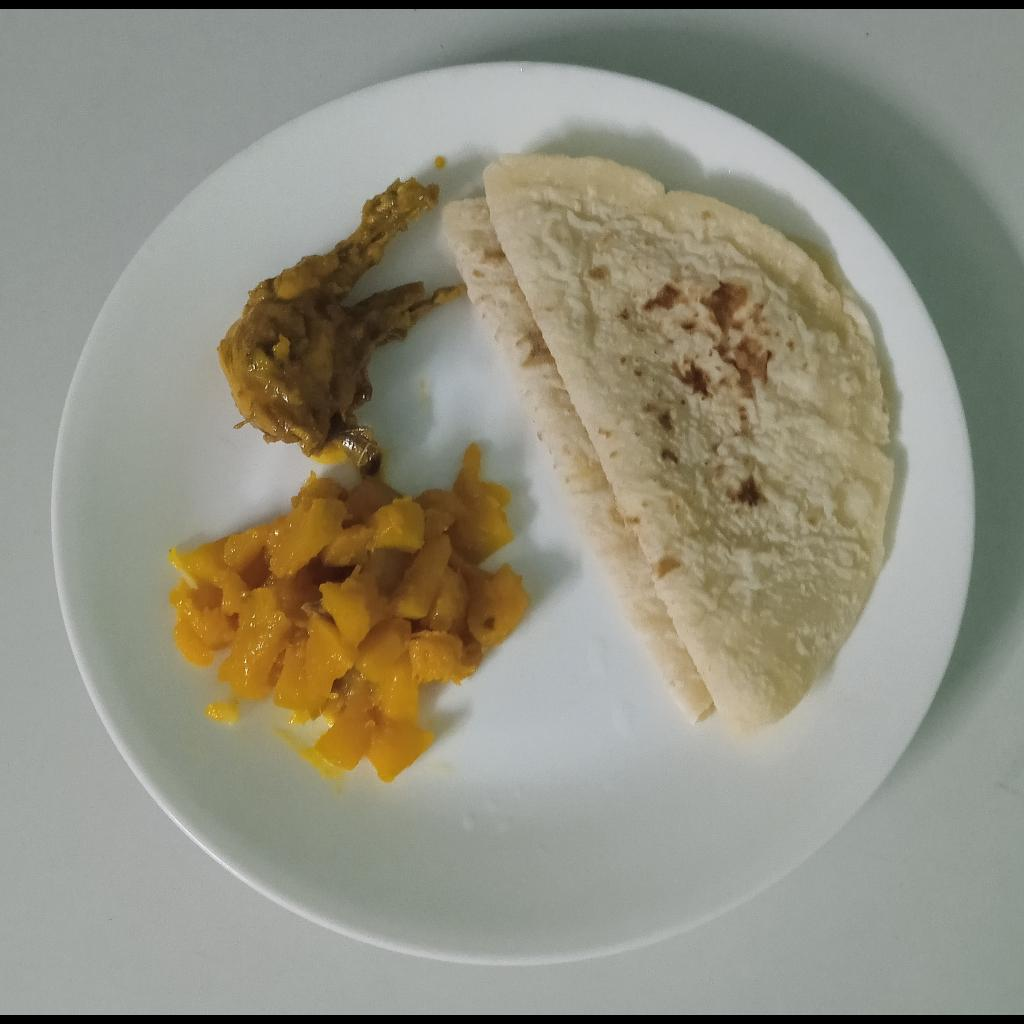chicken: (211, 179, 467, 477)
kumra-vaji: (163, 442, 533, 790)
ruti: (444, 148, 894, 744)
